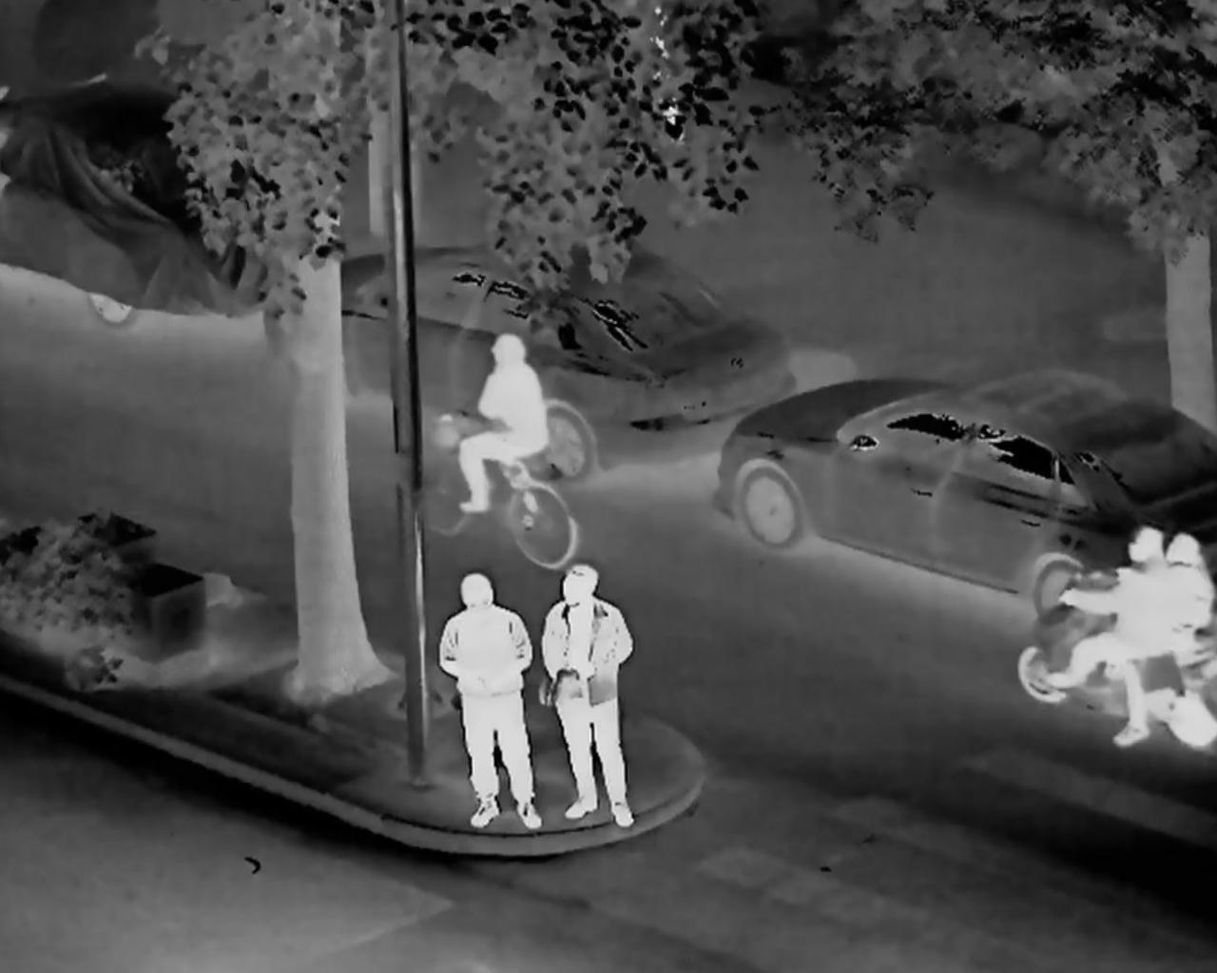person: (528, 546, 647, 861), (420, 557, 557, 827), (435, 330, 564, 506), (1082, 515, 1168, 725), (1149, 525, 1216, 774)
